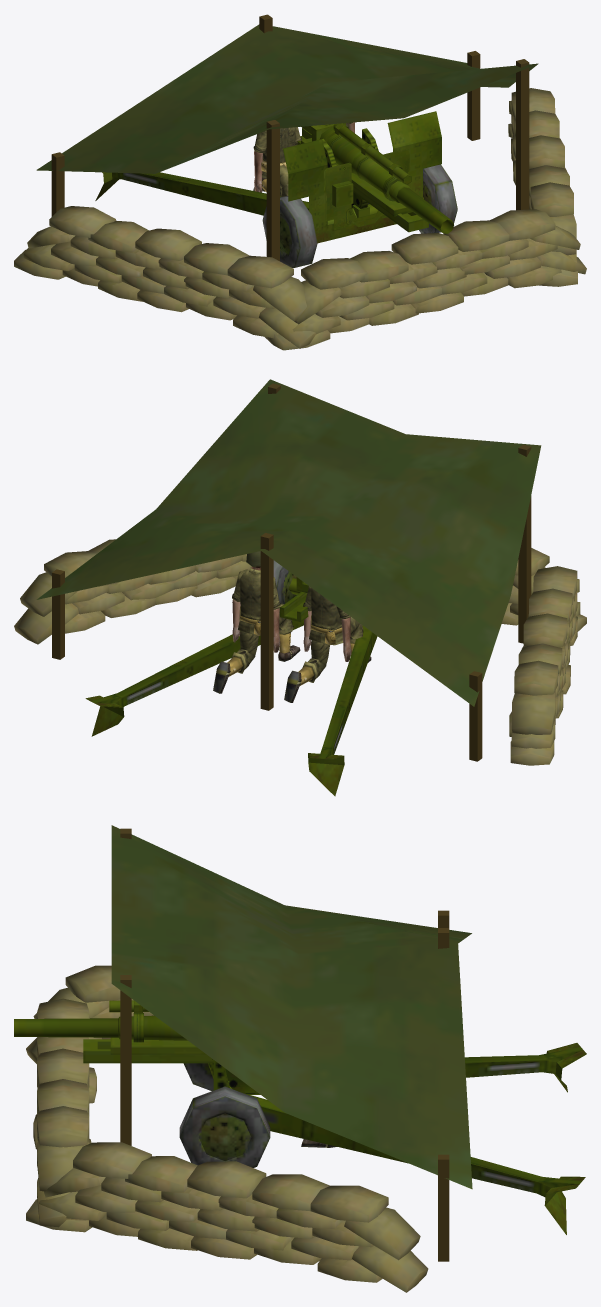
File: USM2Gun_Stationary.dae
3 views of the same model, one above another, from view 1: azimuth 30°, elevation 25°; view 2: azimuth 150°, elevation 25°; view 3: azimuth 270°, elevation 25° (orthographic). The views are drawn at different scales.
Parts seen in each view (by area): view 1: base, carriage, sleeve, barrel, torso1; view 2: base, carriage, torso1, torso2, sleeve; view 3: base, carriage, sleeve, barrel.
Part boxes in pixels (box(x1,y1,x2,y2)): base: box(14, 14, 586, 350); carriage: box(95, 111, 457, 267); sleeve: box(297, 123, 428, 232); barrel: box(301, 123, 453, 233); torso1: box(261, 127, 295, 178); base: box(14, 379, 586, 765); carriage: box(85, 560, 377, 796); torso1: box(309, 588, 342, 645); torso2: box(238, 567, 260, 635); sleeve: box(280, 591, 308, 622); base: box(26, 825, 472, 1292); carriage: box(179, 1043, 586, 1234); sleeve: box(83, 1000, 260, 1094); barrel: box(14, 1018, 118, 1037).
Size of the model in its own units: 51.33 by 39.69 by 19.77.
